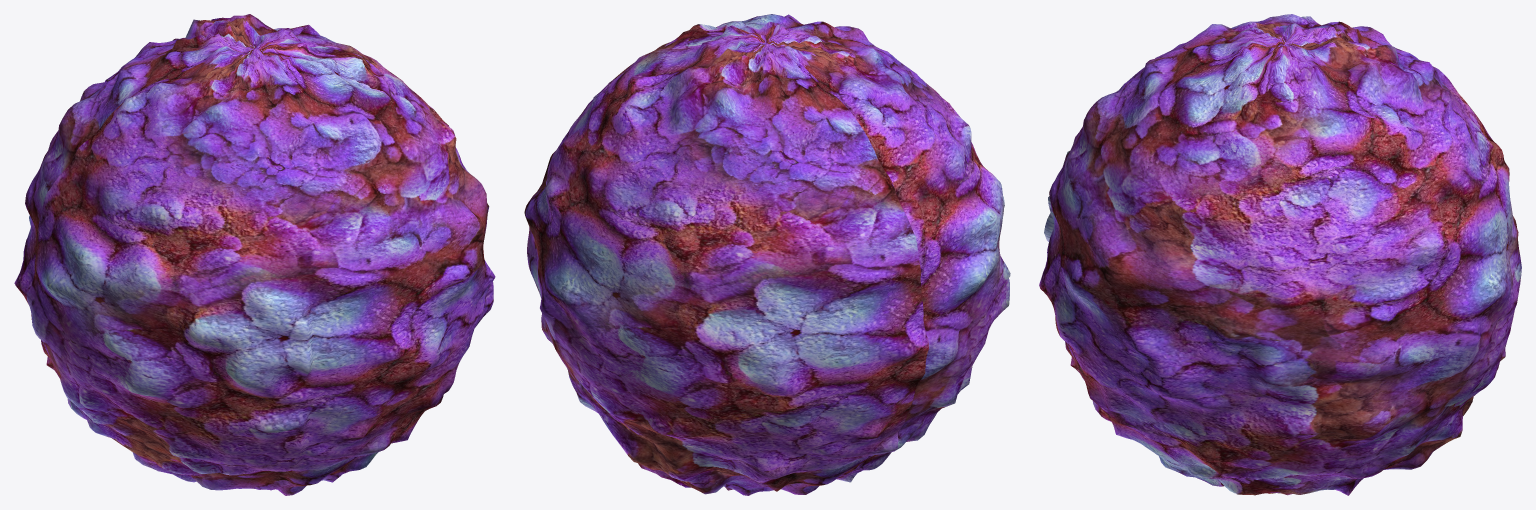
File: rhino-20k.fbx
The picture shows the model from 3 angles, left to right: view 1: azimuth 30°, elevation 25°; view 2: azimuth 150°, elevation 25°; view 3: azimuth 270°, elevation 25°; orthographic projection. The views are drawn at different scales.
Visible parts, largest first — view 1: GeoSphere002; view 2: GeoSphere002; view 3: GeoSphere002.
Boxes of the visible parts, x1=… form: GeoSphere002: x1=14, y1=14, x2=495, y2=495; GeoSphere002: x1=524, y1=14, x2=1010, y2=495; GeoSphere002: x1=1039, y1=14, x2=1521, y2=495.
Size of the model in its own units: 113 by 111 by 109.
1 material, 1 textured.
